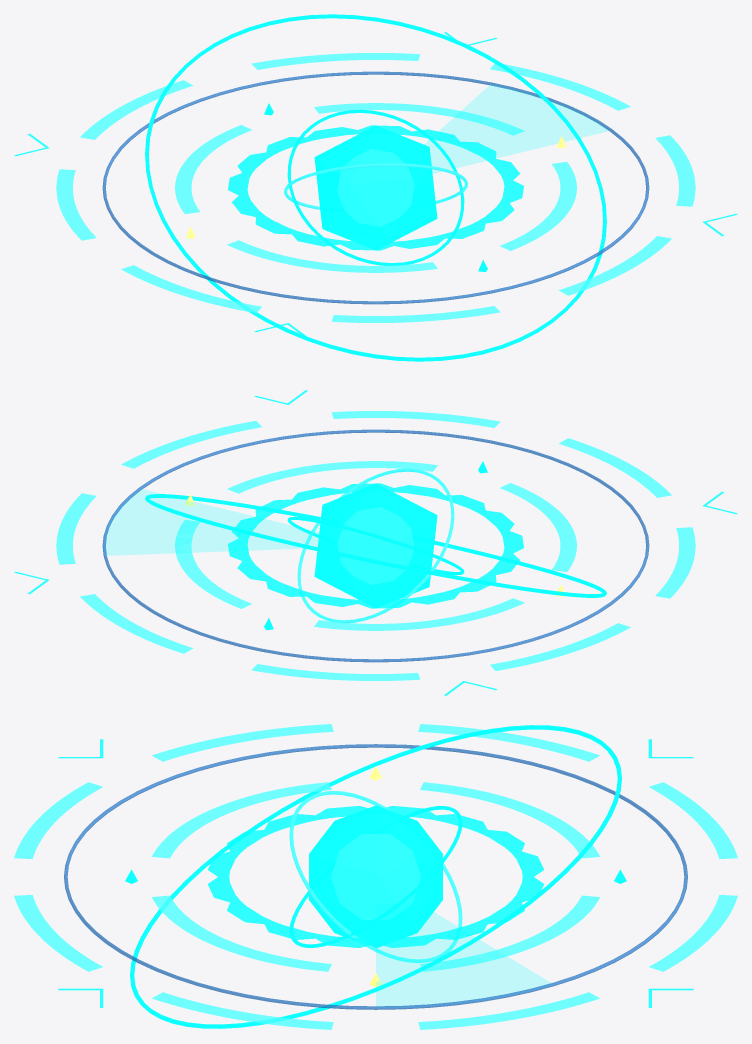
File: jarvis_hologram.glb
3 renders of one model, top to bottom at view 1: azimuth 30°, elevation 25°; view 2: azimuth 150°, elevation 25°; view 3: azimuth 270°, elevation 25°, orthographic. The views are drawn at different scales.
Parts seen in each view (by area): view 1: JARVIS_AI_Core_Cage, JARVIS_Ring5_OuterDatum, JARVIS_Radar_SweepBeam, JARVIS_Ring2_DataArcs, JARVIS_Ring1_NotchedCog, JARVIS_Ring3_GimbalGyro, JARVIS_Ring4_RadarRangeRing, JARVIS_Core_OrbitalRing_1, JARVIS_Core_OrbitalRing_2; view 2: JARVIS_AI_Core_Cage, JARVIS_Ring5_OuterDatum, JARVIS_Radar_SweepBeam, JARVIS_Ring2_DataArcs, JARVIS_Ring1_NotchedCog, JARVIS_Ring4_RadarRangeRing, JARVIS_Ring3_GimbalGyro, JARVIS_Core_OrbitalRing_2, JARVIS_Core_OrbitalRing_1; view 3: JARVIS_AI_Core_Cage, JARVIS_Ring5_OuterDatum, JARVIS_Radar_SweepBeam, JARVIS_Ring2_DataArcs, JARVIS_Ring1_NotchedCog, JARVIS_Ring4_RadarRangeRing, JARVIS_Ring3_GimbalGyro, JARVIS_Core_OrbitalRing_2, JARVIS_Core_OrbitalRing_1.
Boxes of the visible parts, x1,y1,x2,y2 form: JARVIS_AI_Core_Cage: [314, 125, 437, 250]; JARVIS_Ring5_OuterDatum: [56, 53, 695, 322]; JARVIS_Radar_SweepBeam: [425, 85, 609, 173]; JARVIS_Ring2_DataArcs: [175, 103, 576, 272]; JARVIS_Ring1_NotchedCog: [228, 125, 523, 250]; JARVIS_Ring3_GimbalGyro: [145, 14, 606, 361]; JARVIS_Ring4_RadarRangeRing: [102, 71, 649, 304]; JARVIS_Core_OrbitalRing_1: [287, 109, 464, 265]; JARVIS_Core_OrbitalRing_2: [284, 163, 467, 209]; JARVIS_AI_Core_Cage: [314, 483, 437, 608]; JARVIS_Ring5_OuterDatum: [56, 411, 695, 680]; JARVIS_Radar_SweepBeam: [106, 489, 318, 555]; JARVIS_Ring2_DataArcs: [175, 461, 576, 630]; JARVIS_Ring1_NotchedCog: [228, 483, 523, 608]; JARVIS_Ring4_RadarRangeRing: [102, 429, 649, 662]; JARVIS_Ring3_GimbalGyro: [145, 494, 606, 597]; JARVIS_Core_OrbitalRing_2: [297, 468, 454, 622]; JARVIS_Core_OrbitalRing_1: [287, 516, 464, 574]; JARVIS_AI_Core_Cage: [309, 805, 442, 948]; JARVIS_Ring5_OuterDatum: [14, 724, 737, 1029]; JARVIS_Radar_SweepBeam: [376, 900, 549, 1005]; JARVIS_Ring2_DataArcs: [152, 782, 599, 971]; JARVIS_Ring1_NotchedCog: [208, 806, 543, 947]; JARVIS_Ring4_RadarRangeRing: [64, 744, 687, 1009]; JARVIS_Ring3_GimbalGyro: [130, 725, 621, 1028]; JARVIS_Core_OrbitalRing_2: [289, 791, 462, 962]; JARVIS_Core_OrbitalRing_1: [290, 806, 462, 947].
Size of the model in its own units: 3.85 by 1.18 by 3.85.
